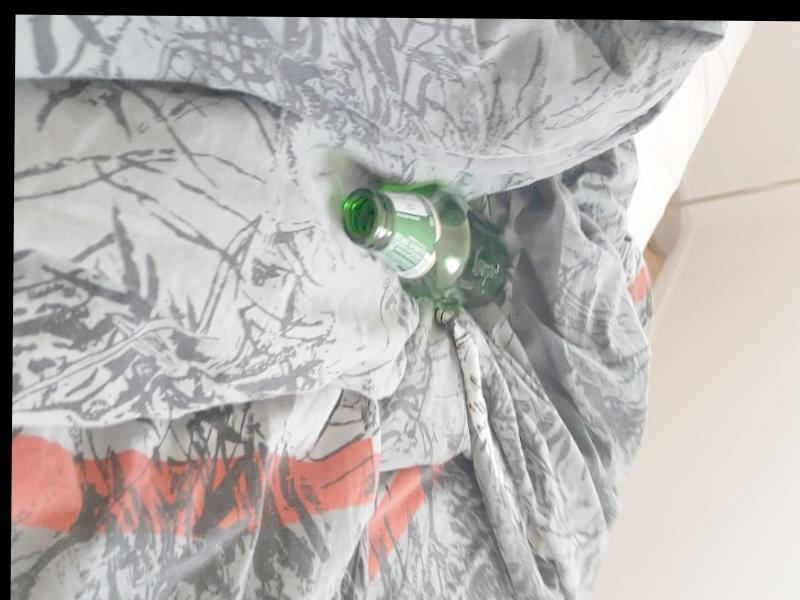Beer: (340, 182, 510, 307)
